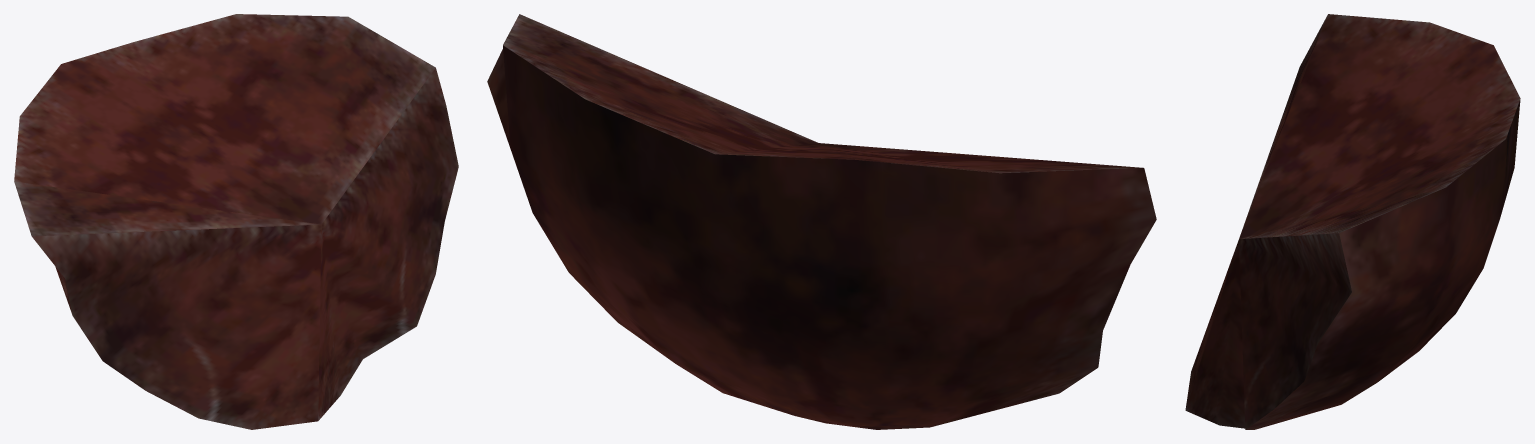
File: orbpiece_scarlet.dae
3 renders of one model, left to right at view 1: azimuth 30°, elevation 25°; view 2: azimuth 150°, elevation 25°; view 3: azimuth 270°, elevation 25°, orthographic. The views are drawn at different scales.
Parts seen in each view (by area): view 1: orb2; view 2: orb2; view 3: orb2.
Part boxes in pixels (x1,y1,x2,y2): orb2: [14, 14, 458, 429]; orb2: [487, 14, 1156, 429]; orb2: [1185, 14, 1520, 429].
Size of the model in its own units: 0.3605 by 0.2199 by 0.2178.
